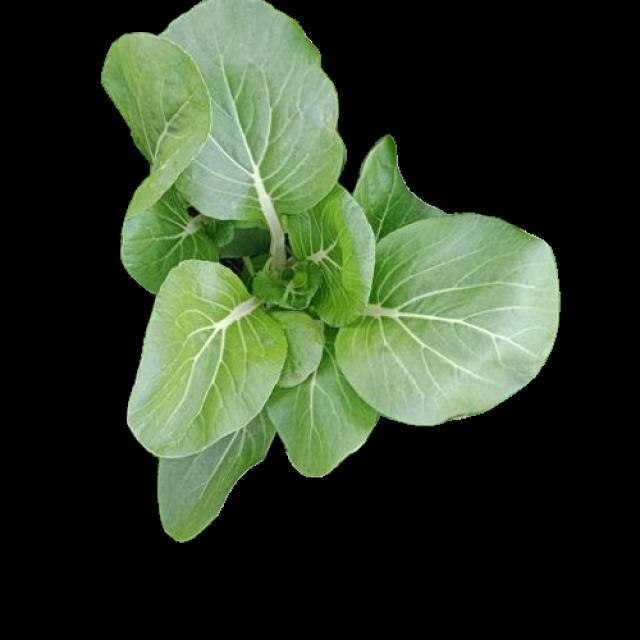healthy: (106, 4, 561, 543)
mature: (104, 1, 558, 540)
